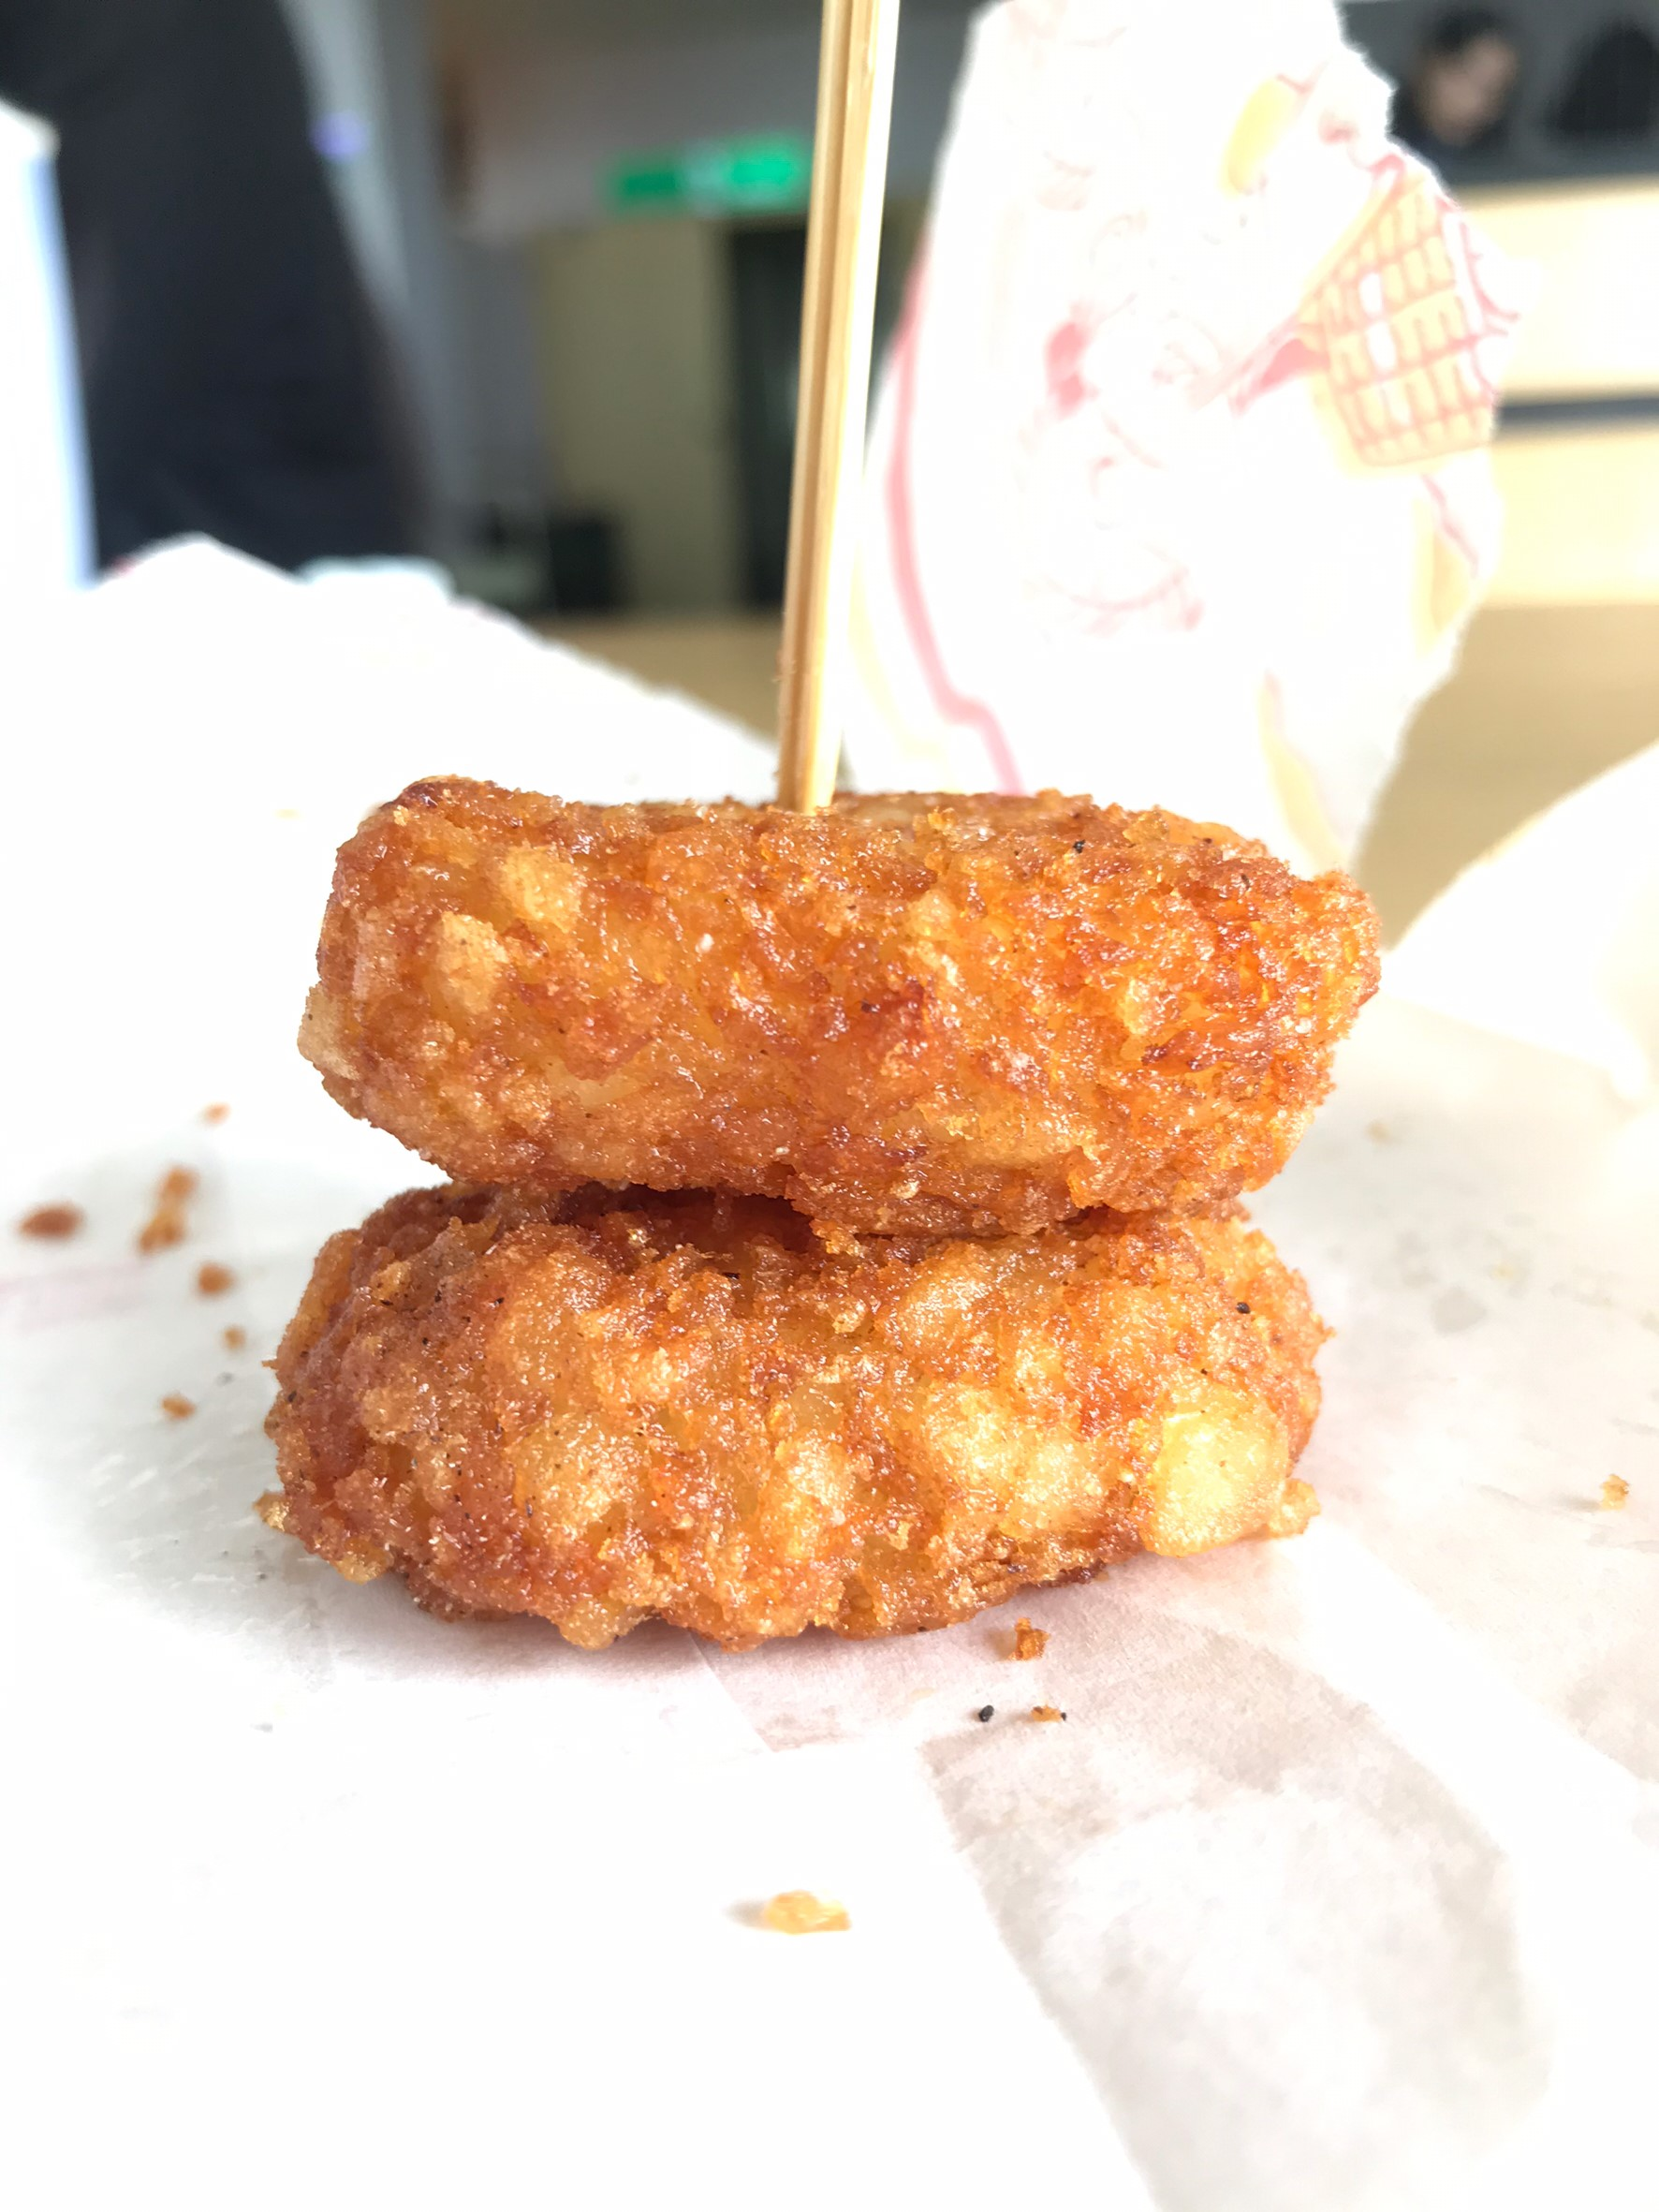triangle_hash_brown: (270, 765, 1328, 1651)
